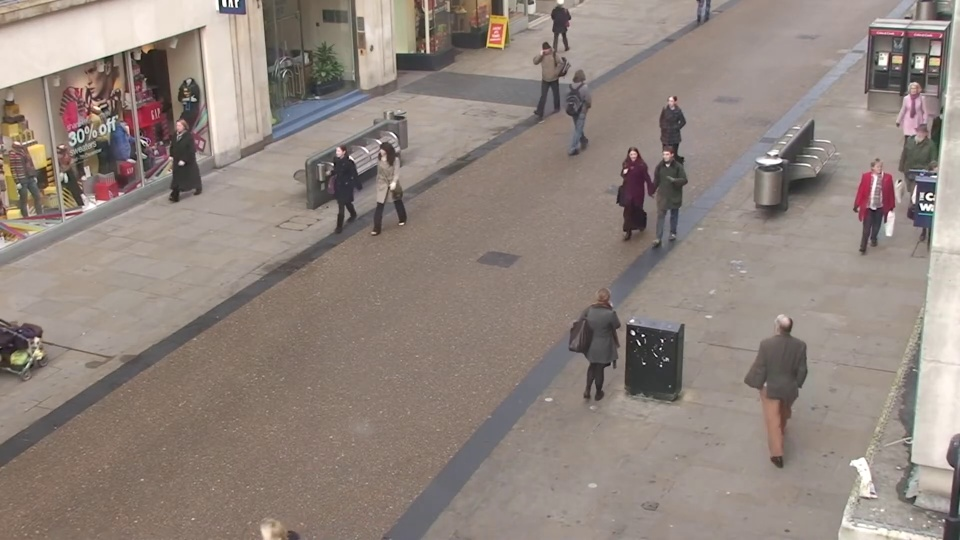pedestrian: (757, 298, 809, 442), (582, 277, 627, 416), (849, 158, 894, 266), (888, 123, 933, 224), (886, 80, 928, 171), (319, 139, 356, 241), (363, 139, 399, 241), (159, 117, 198, 211), (645, 147, 679, 252), (610, 141, 643, 244), (653, 92, 683, 181), (569, 65, 596, 147), (527, 42, 553, 117)
